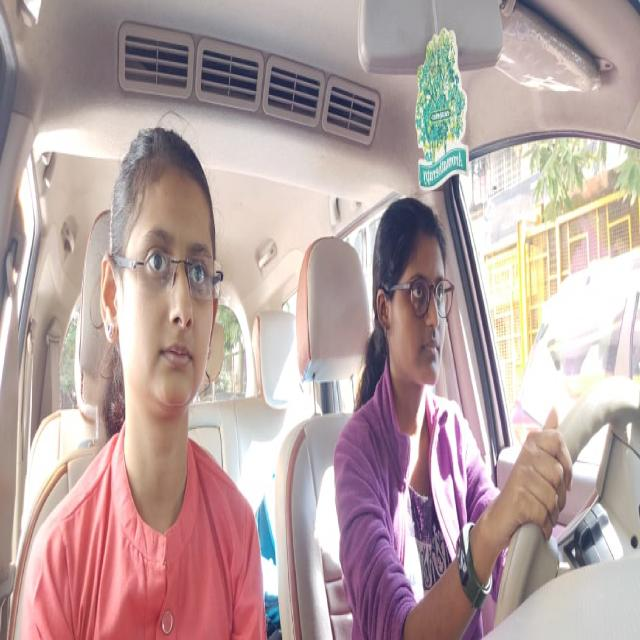person: (105, 144, 218, 423), (376, 207, 450, 392)
